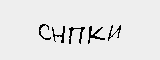И: (108, 23, 125, 44)
К: (88, 23, 104, 46)
Н: (52, 27, 67, 46)
П: (70, 24, 88, 47)
С: (37, 22, 52, 43)
